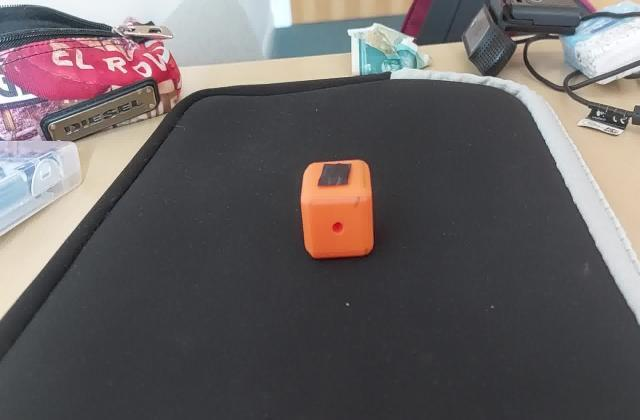black: (316, 164, 356, 190)
cube: (297, 158, 375, 264)
